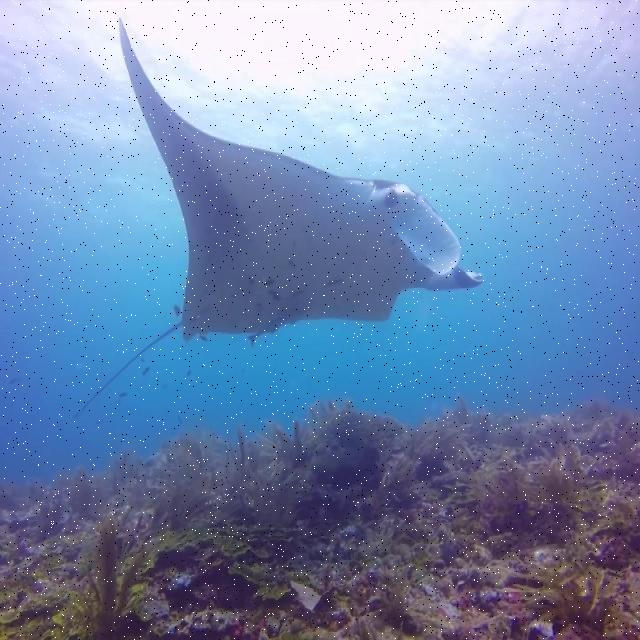fish: (77, 18, 488, 414)
